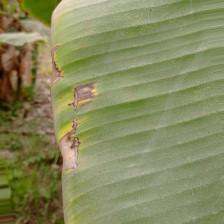cordana: (51, 0, 224, 224)
